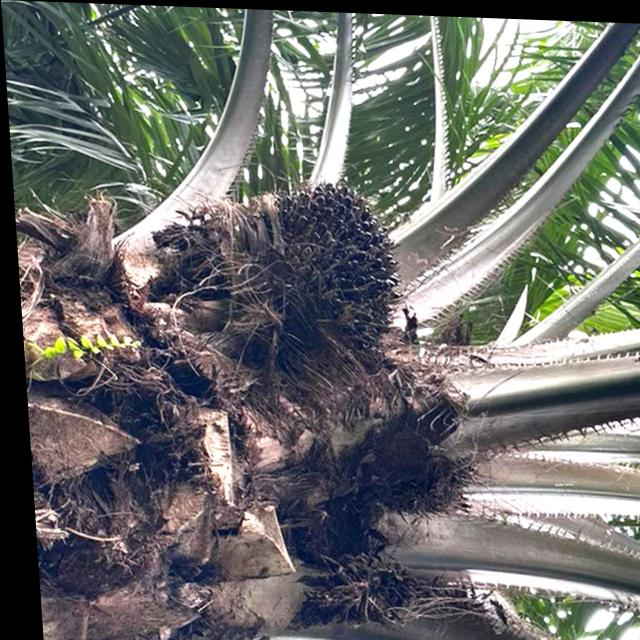unripe: (250, 169, 404, 357)
